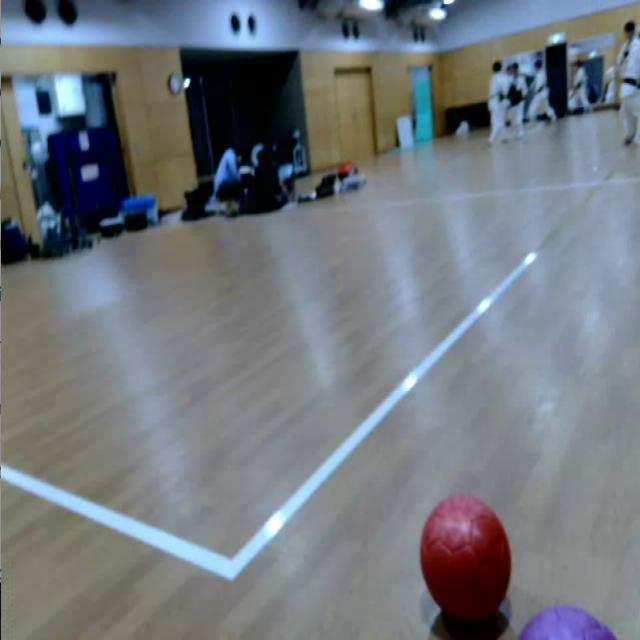purple_ball: (517, 605, 619, 640)
red_ball: (420, 496, 514, 620)
